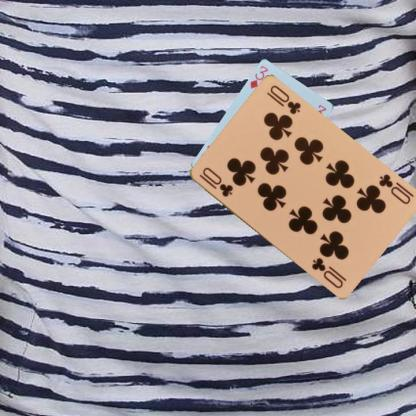10c: (196, 164, 234, 199), (376, 171, 412, 206)
3d: (247, 63, 270, 90)
